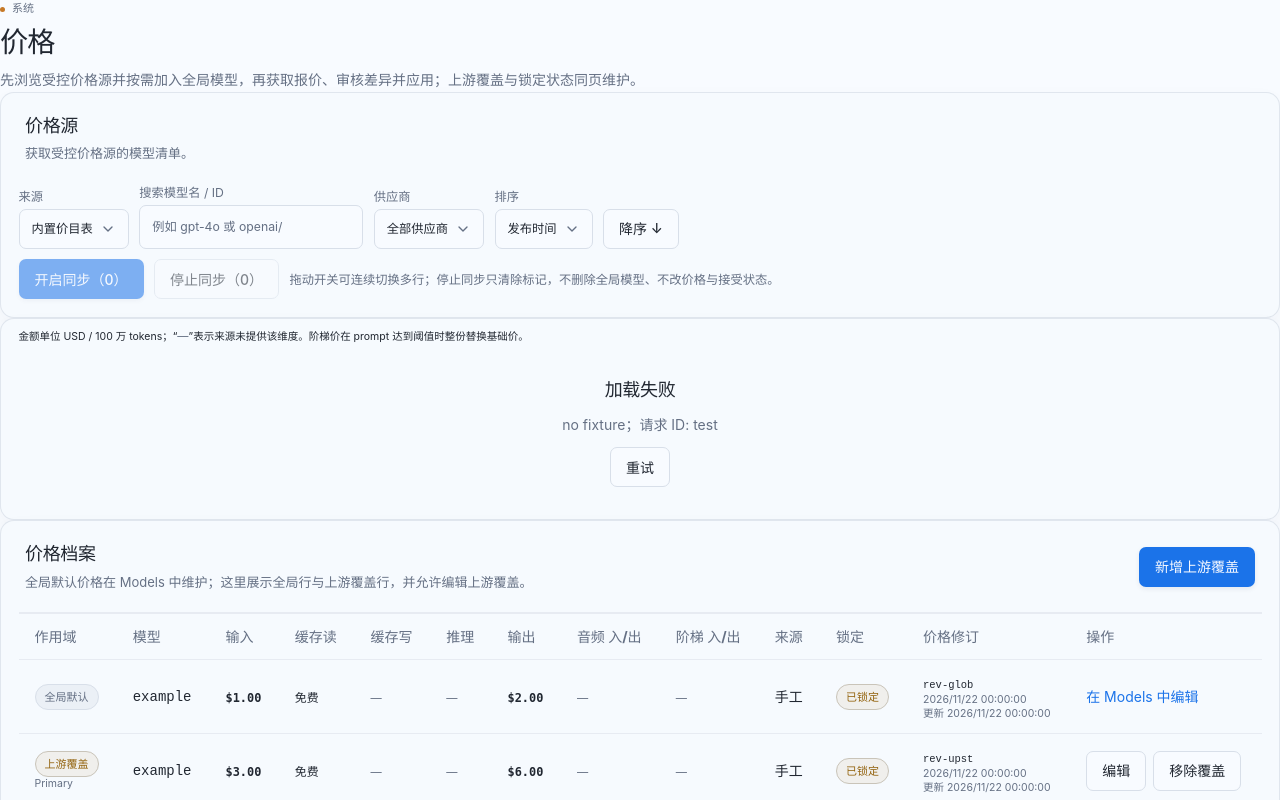
Test: prices surface › returns focus to the first price input after cancelling the lock confirmation
Click the button "编辑" at (1116, 771), box x1=1086 y1=751 x2=1146 y2=791
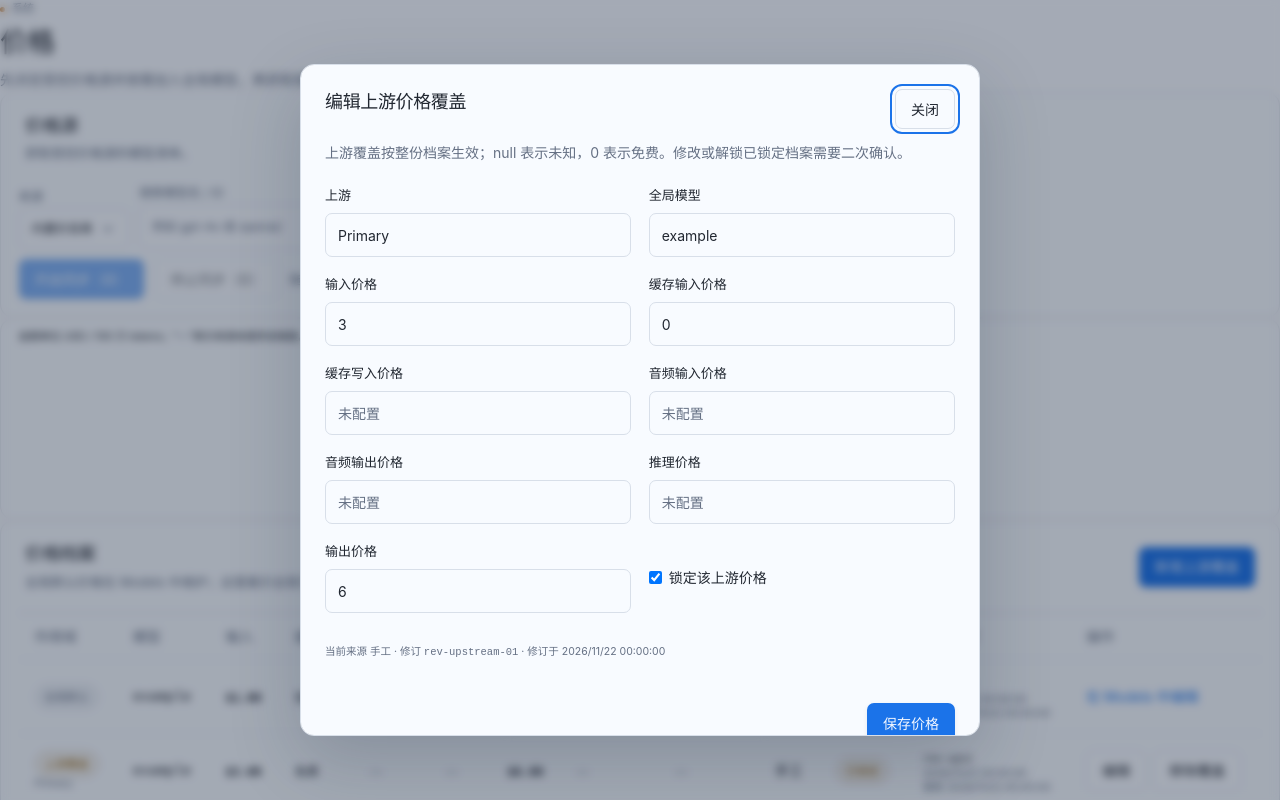
Replace the text in the number field labelled "输入价格" with "9" at (478, 324), box x1=325 y1=302 x2=631 y2=346
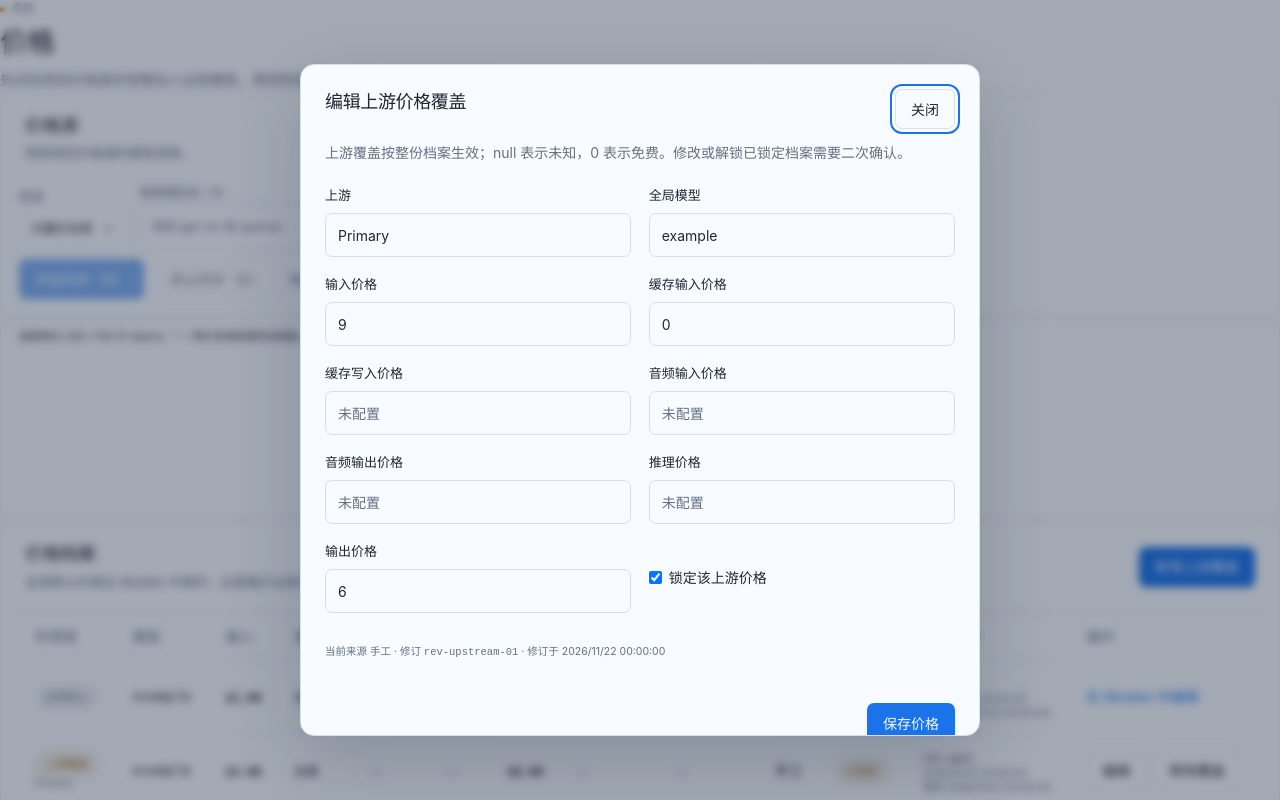
Click the button "保存价格" at (911, 723), box x1=867 y1=703 x2=955 y2=743
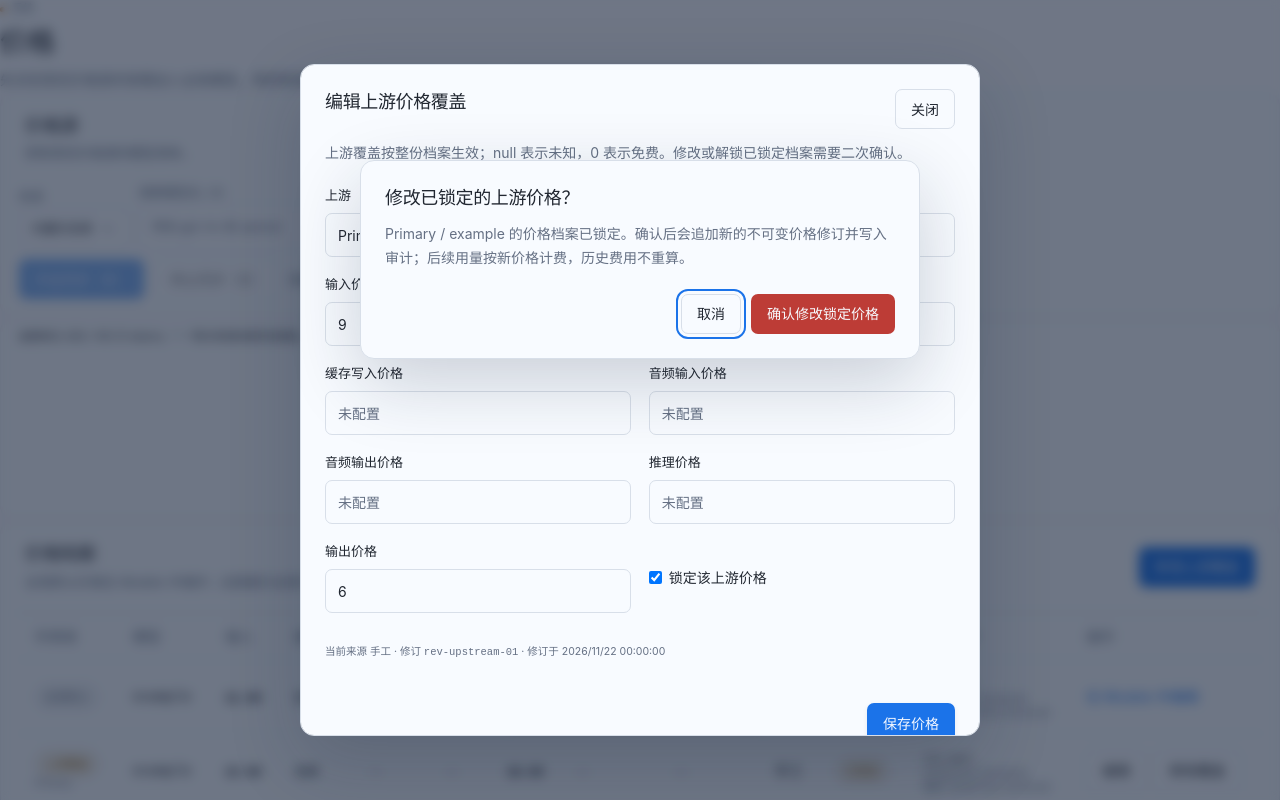
Click the button "取消" at (711, 314), box x1=681 y1=294 x2=741 y2=334
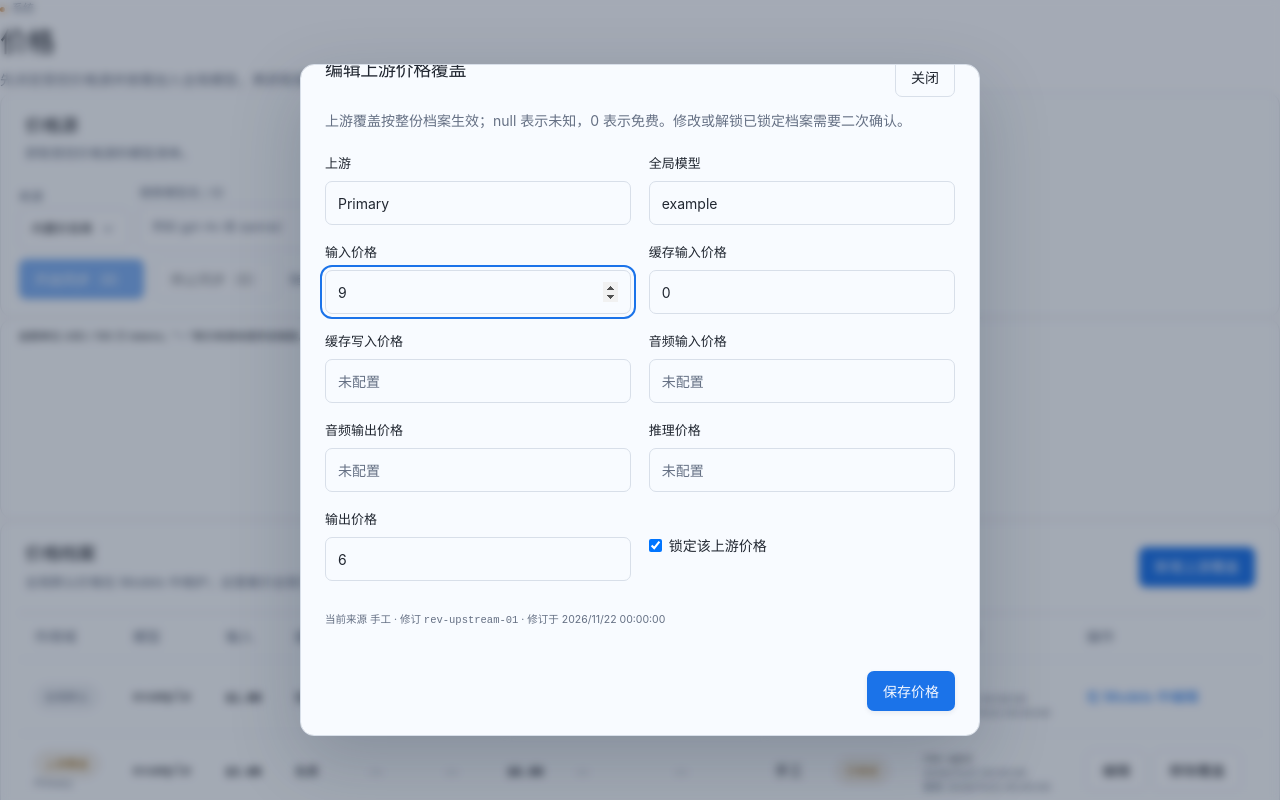
Check: the heading "修改已锁定的上游价格？" is gone
